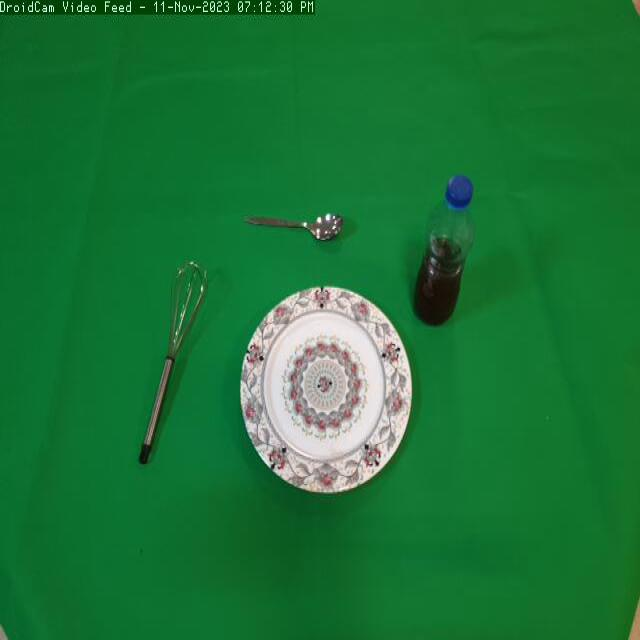fullbottle: (408, 171, 480, 335)
plate: (241, 284, 423, 510)
spoon: (238, 199, 349, 255)
whisk: (123, 250, 219, 469)
